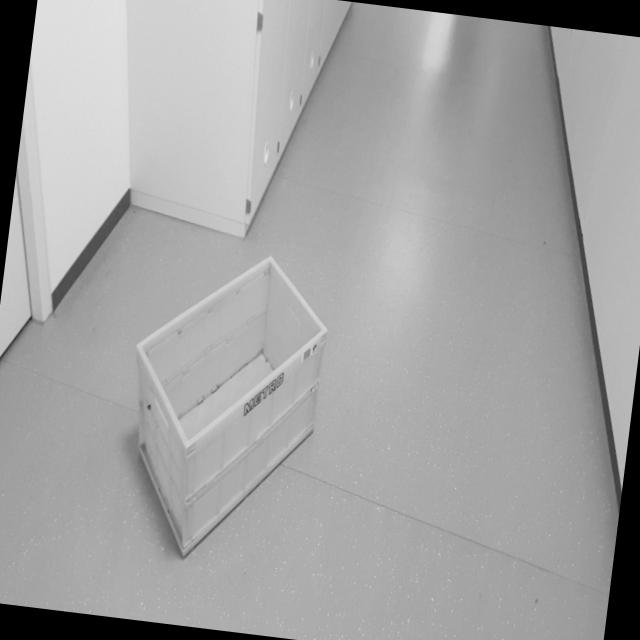box: (110, 218, 344, 575)
